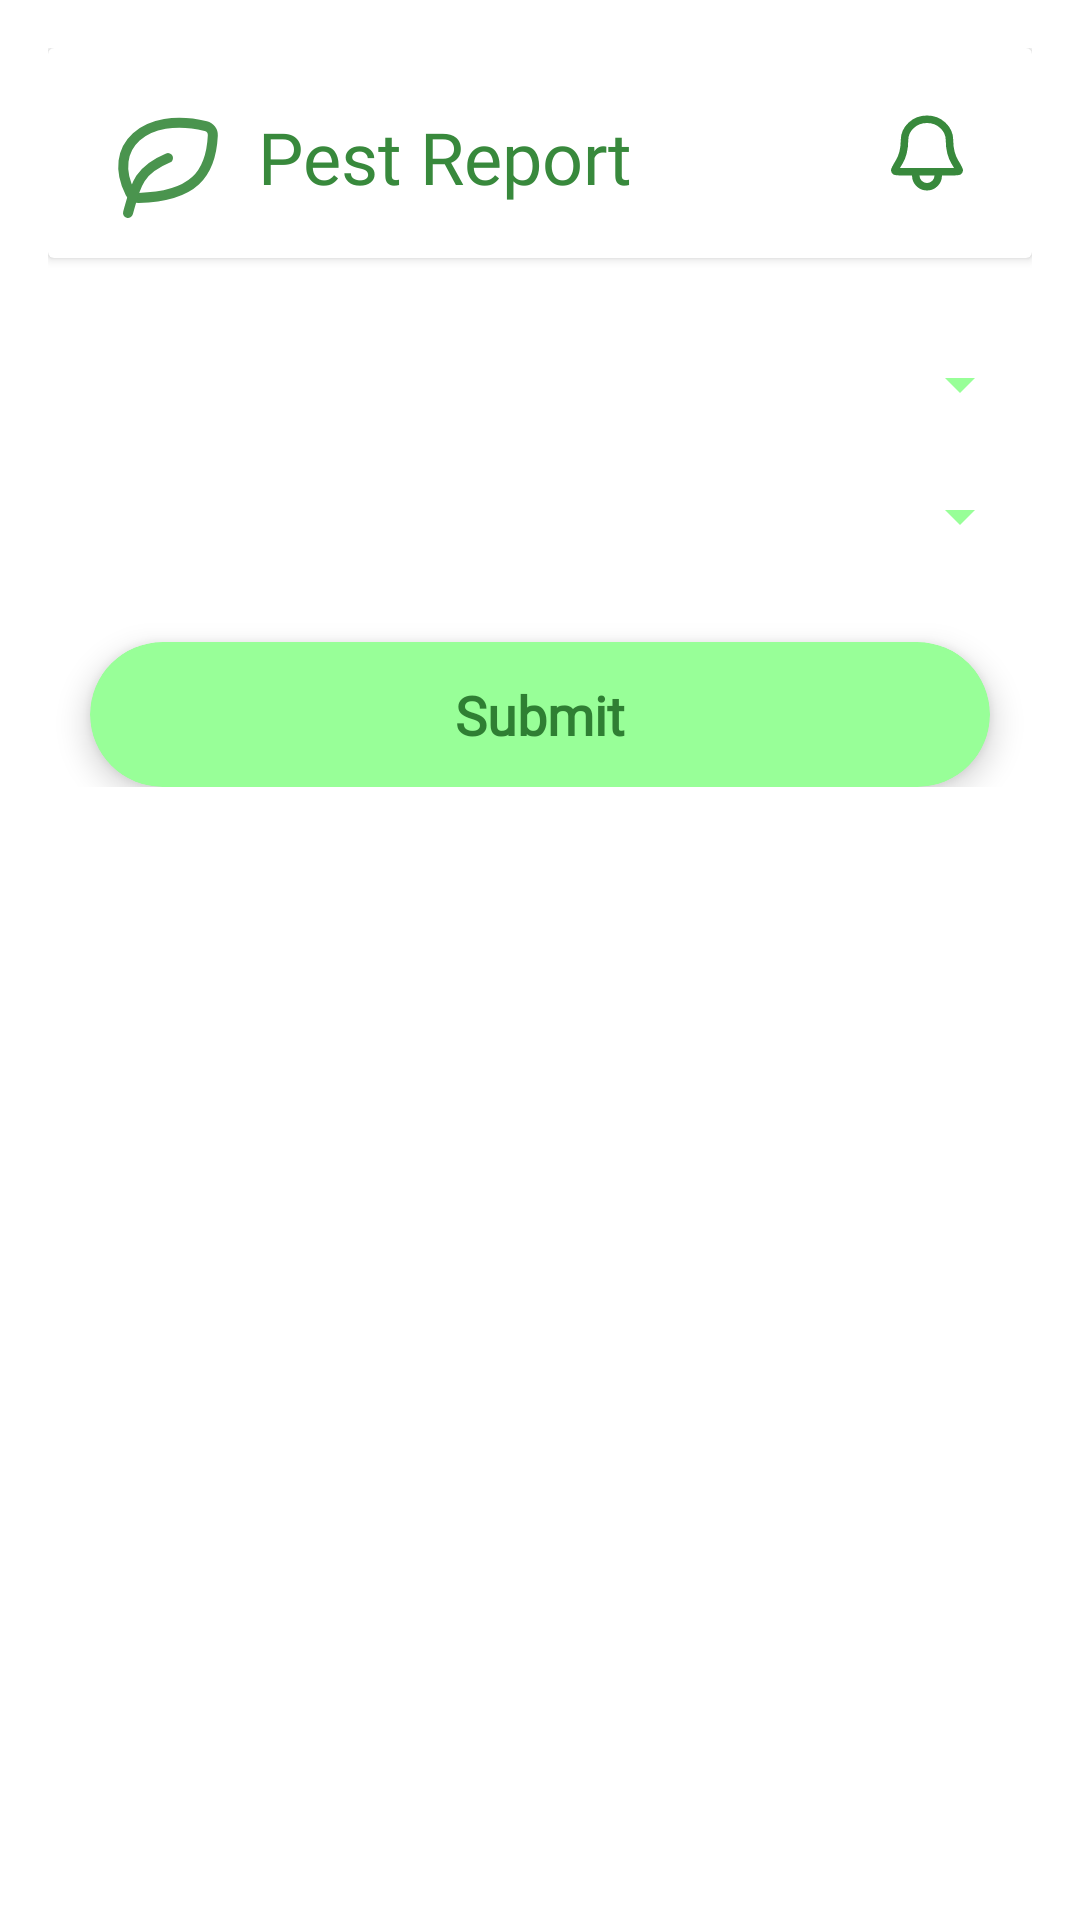

Icon click points for this 1080 × 1920 phone screenshot, format (x,y):
bell: (927,153)
leaf: (168,167)
